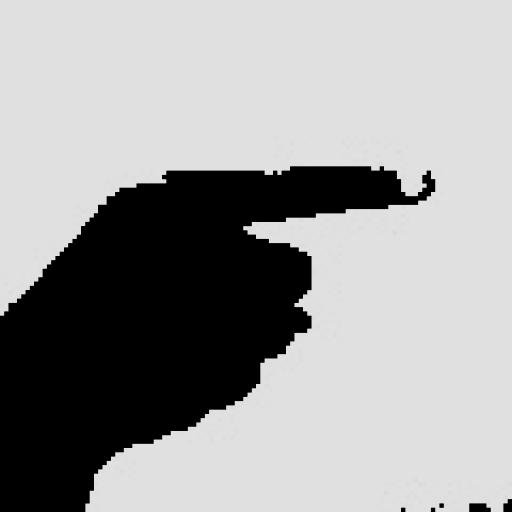index_left: (0, 164, 438, 374)
